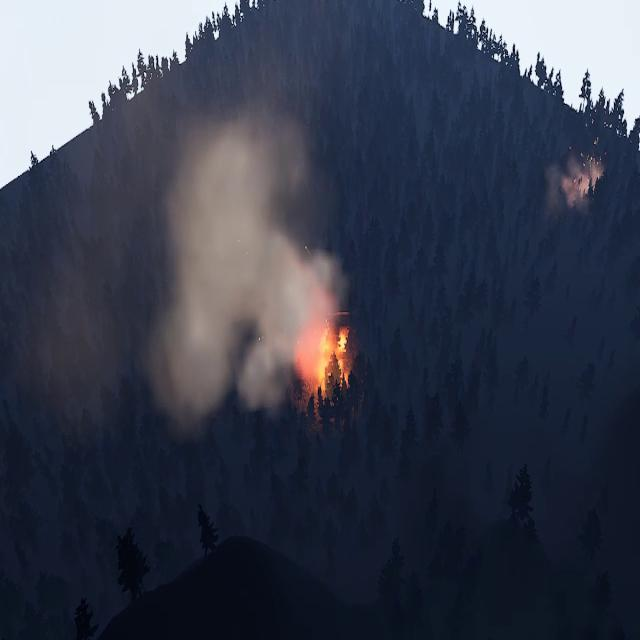fire: (295, 314, 352, 408)
smoke: (26, 88, 335, 431), (544, 145, 609, 216)
